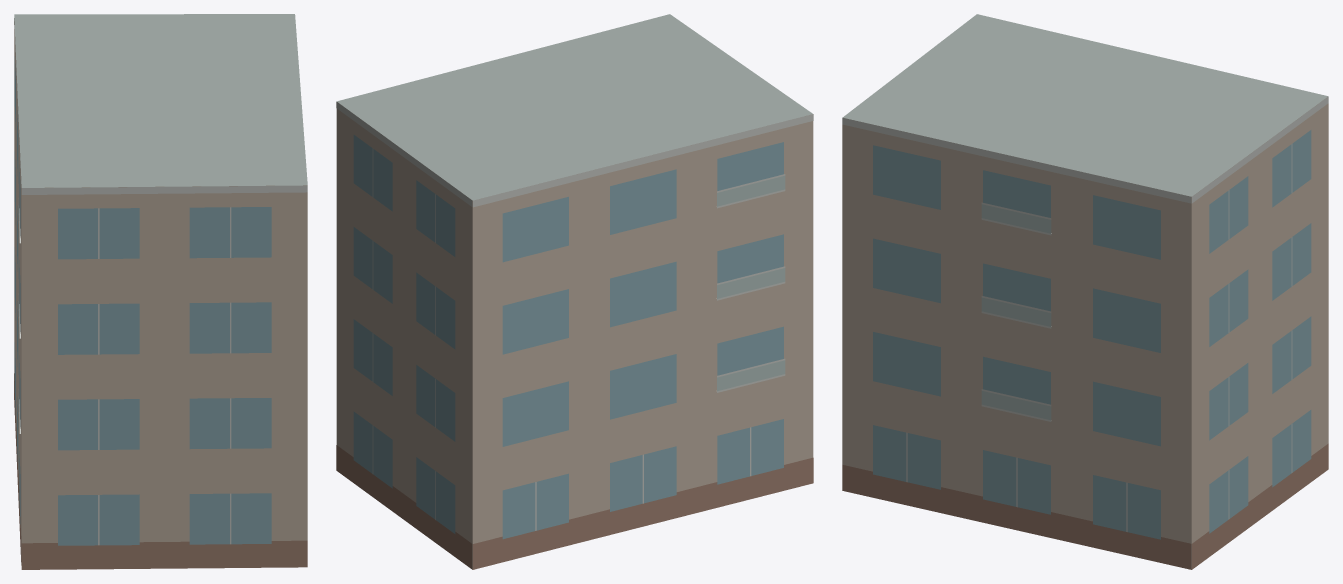
The model's file is survey-upis-32633404.glb.
3 renders of one model, left to right at view 1: azimuth 30°, elevation 25°; view 2: azimuth 150°, elevation 25°; view 3: azimuth 270°, elevation 25°, orthographic. The views are drawn at different scales.
Visible parts, largest first — view 1: survey-upis-32633404.tmp; view 2: survey-upis-32633404.tmp; view 3: survey-upis-32633404.tmp.
Part boxes in pixels (x1,y1,x2,y2): survey-upis-32633404.tmp: [14, 14, 307, 569]; survey-upis-32633404.tmp: [336, 14, 813, 569]; survey-upis-32633404.tmp: [842, 14, 1328, 569].
Bounding box in the file's own units: 13.88 × 13.2 × 15.6.
